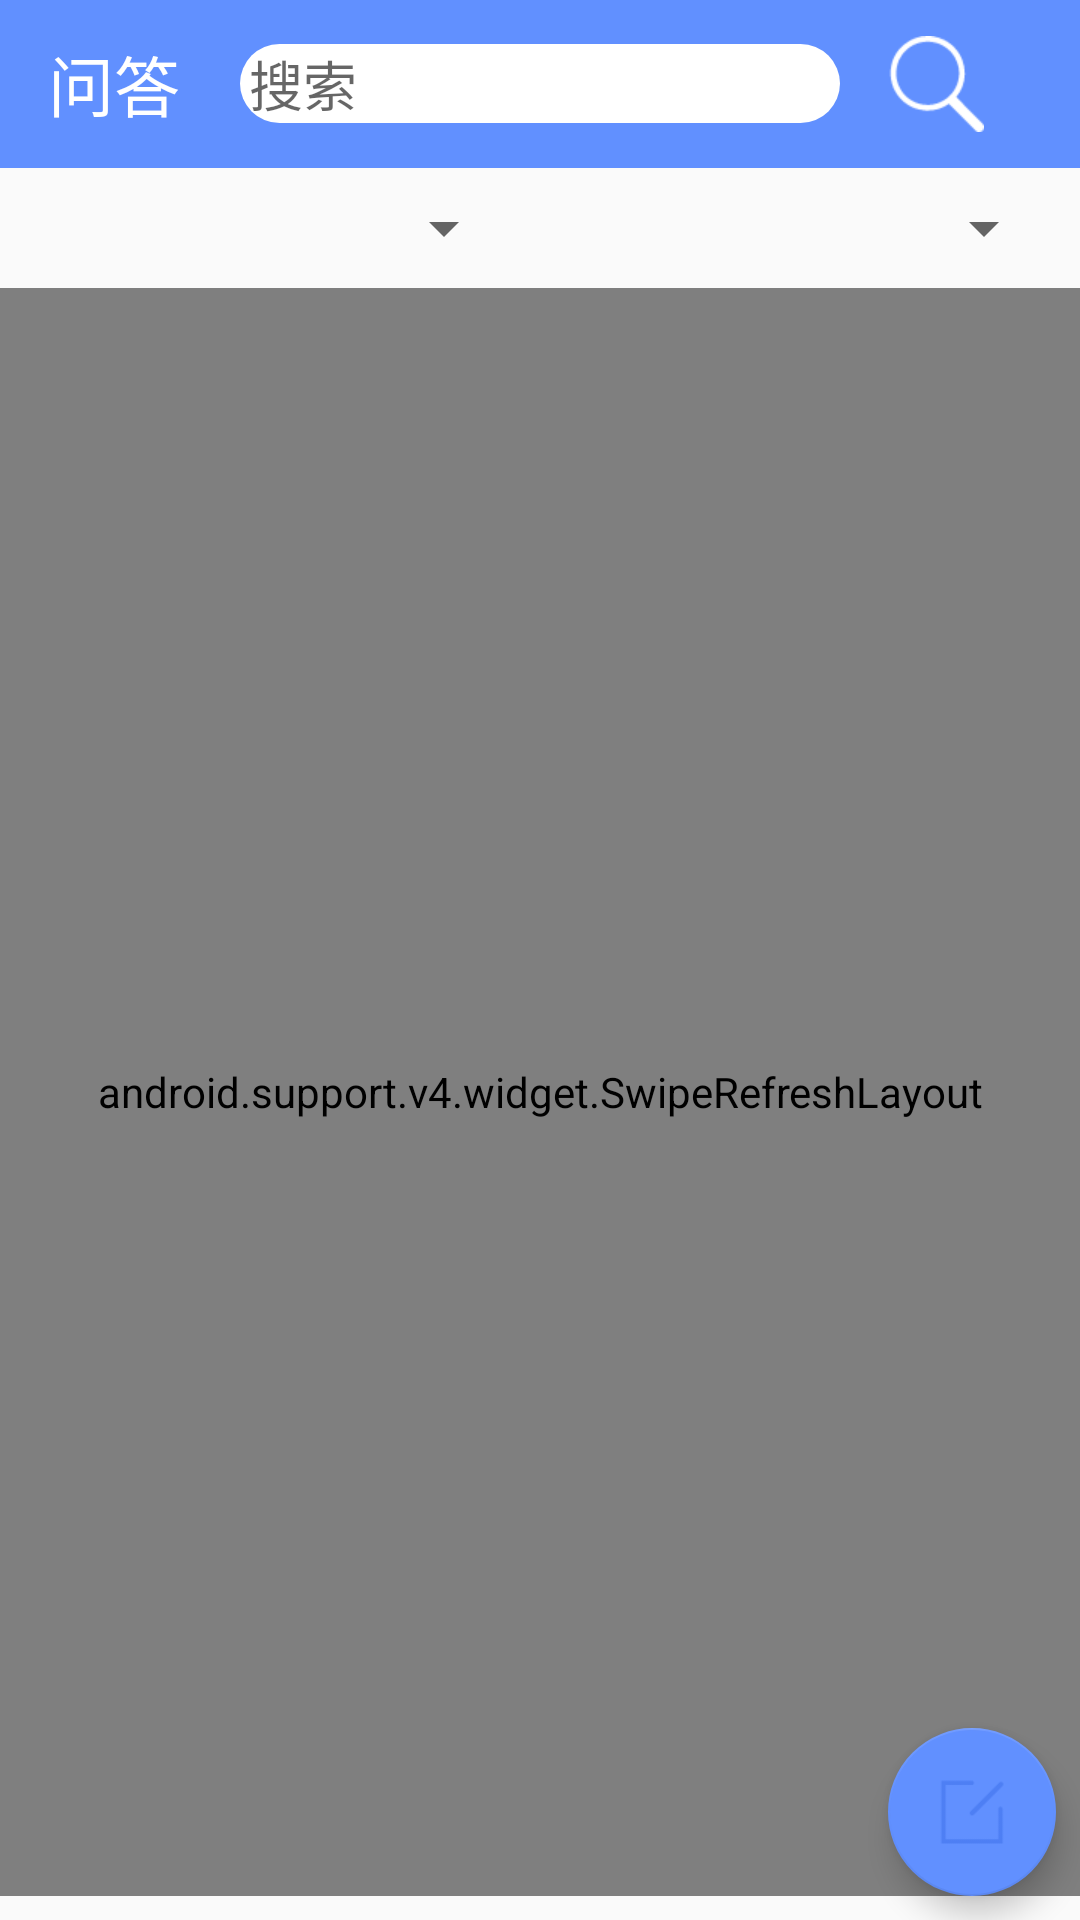

Icon bounding boxes for this 1080w x 1920h phone screenshot, format (left=x1, top=y1, right=x2, bottom=y2):
feedback: (left=888, top=1728, right=1056, bottom=1896)
search: (left=890, top=36, right=984, bottom=132)
